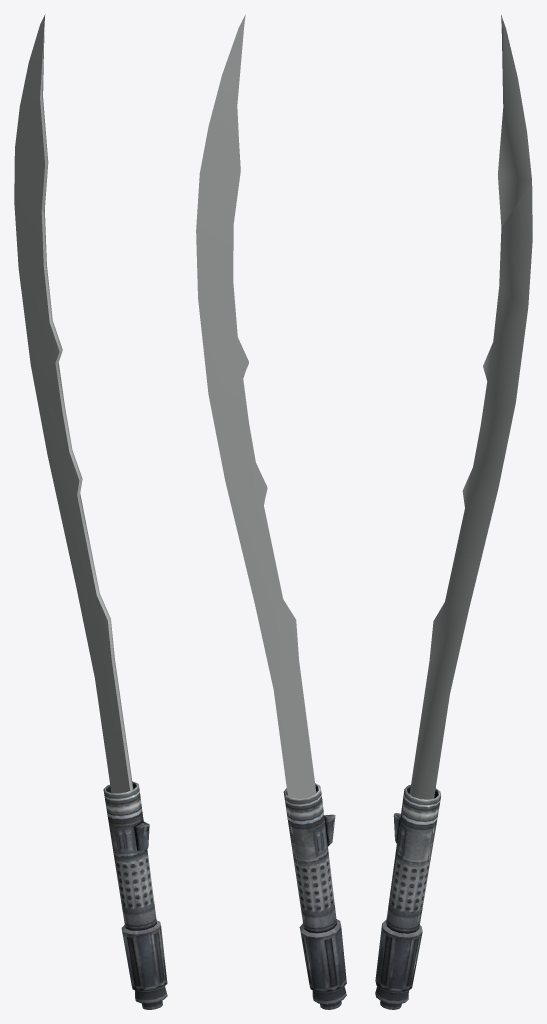
Rendered from AssassinSword.obj.
The picture shows the model from 3 angles, left to right: view 1: azimuth 90°, elevation 25°; view 2: azimuth 150°, elevation 25°; view 3: azimuth 270°, elevation 25°; orthographic projection. The views are drawn at different scales.
Parts seen in each view (by area): view 1: AssassinSword; view 2: AssassinSword; view 3: AssassinSword.
Part boxes in pixels (left/top/right/bottom): AssassinSword: left=14, top=14, right=167, bottom=1009; AssassinSword: left=196, top=14, right=346, bottom=1009; AssassinSword: left=375, top=15, right=532, bottom=1009.
Bounding box in the file's own units: 7.19 × 90.56 × 12.85.
Materials: 1 (1 with a texture image).
